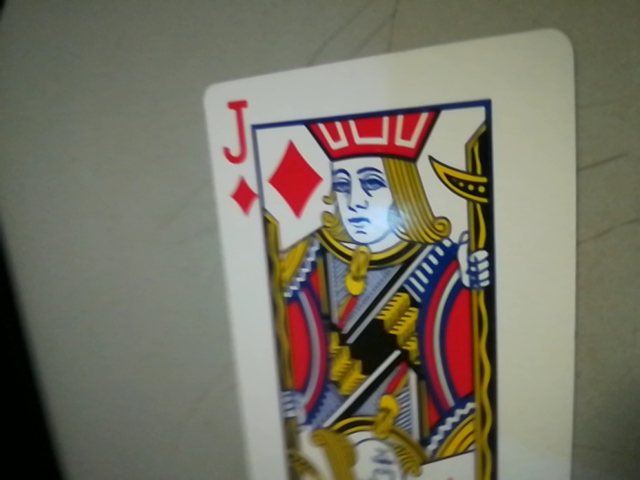fk j: (211, 93, 264, 218)
